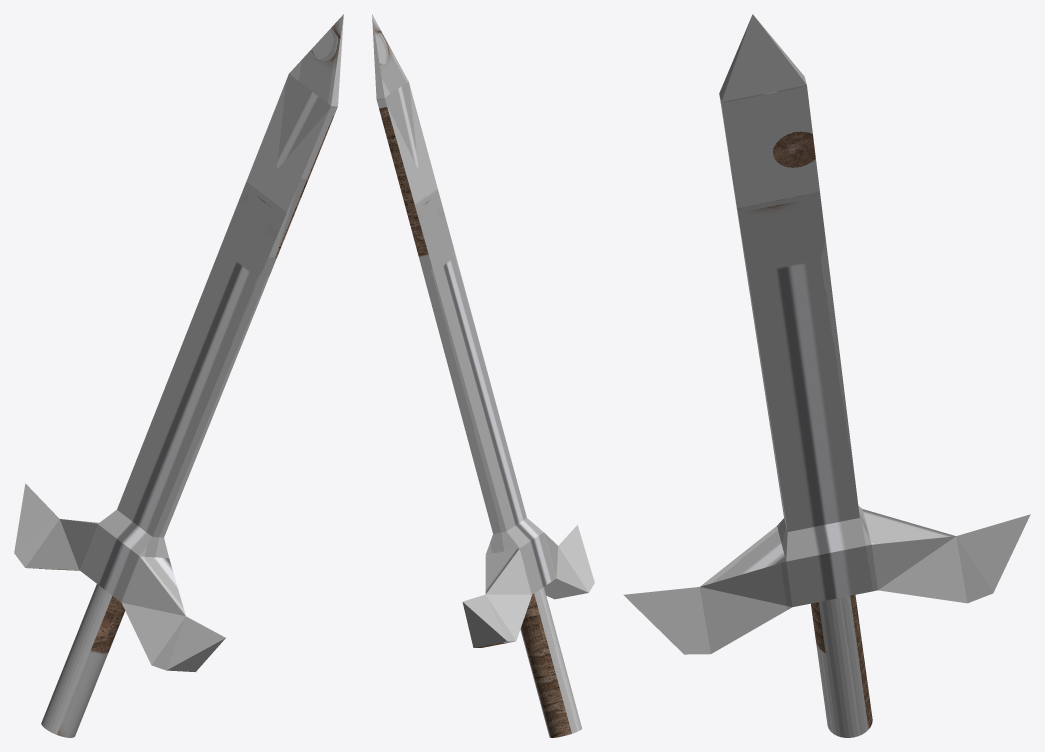
The model's file is Protagonista17.obj.
The picture shows the model from 3 angles, left to right: view 1: azimuth 30°, elevation 25°; view 2: azimuth 150°, elevation 25°; view 3: azimuth 270°, elevation 25°; orthographic projection. The views are drawn at different scales.
Parts seen in each view (by area): view 1: Cube; view 2: Cube; view 3: Cube.
Part boxes in pixels (x1,y1,x2,y2): Cube: (14, 14, 343, 737); Cube: (372, 14, 594, 737); Cube: (623, 14, 1030, 737).
Bounding box in the file's own units: 0.6519 × 1.64 × 0.7003.
Materials: 1 (1 with a texture image).
